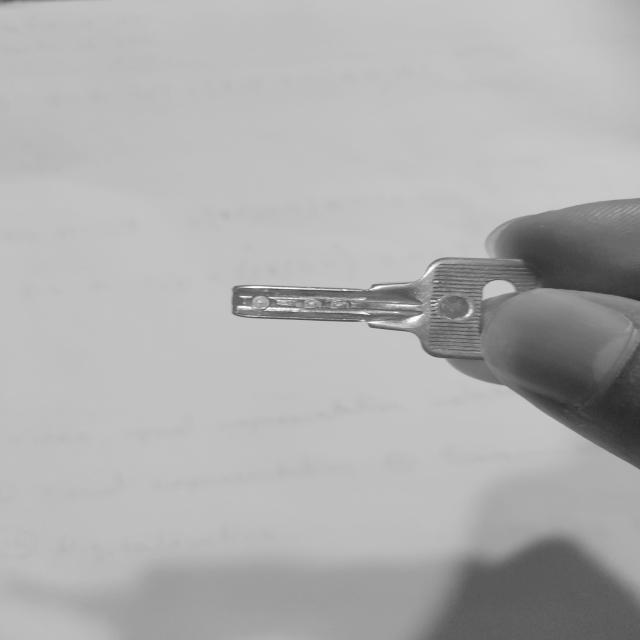KEY: (232, 258, 543, 360)
